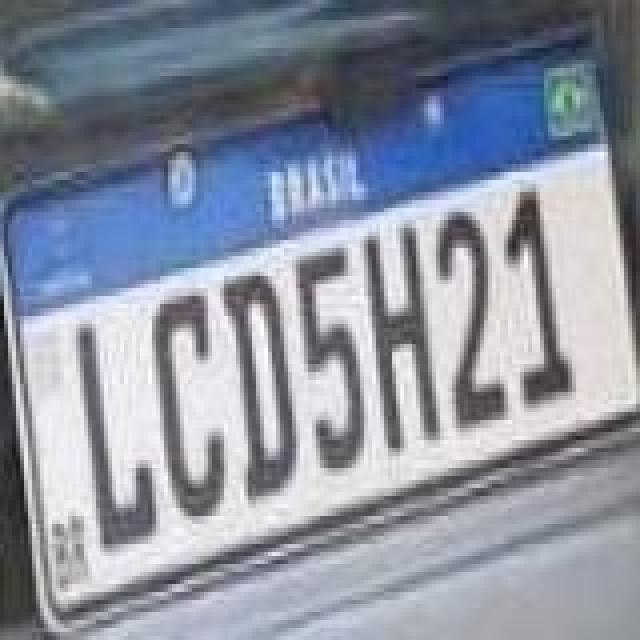1: (500, 182, 572, 410)
2: (434, 210, 510, 438)
5: (290, 246, 366, 474)
C: (148, 290, 228, 526)
D: (218, 266, 302, 502)
H: (358, 218, 442, 454)
L: (74, 314, 158, 550)
